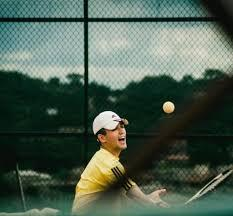ball_tennis: (163, 101, 174, 114)
